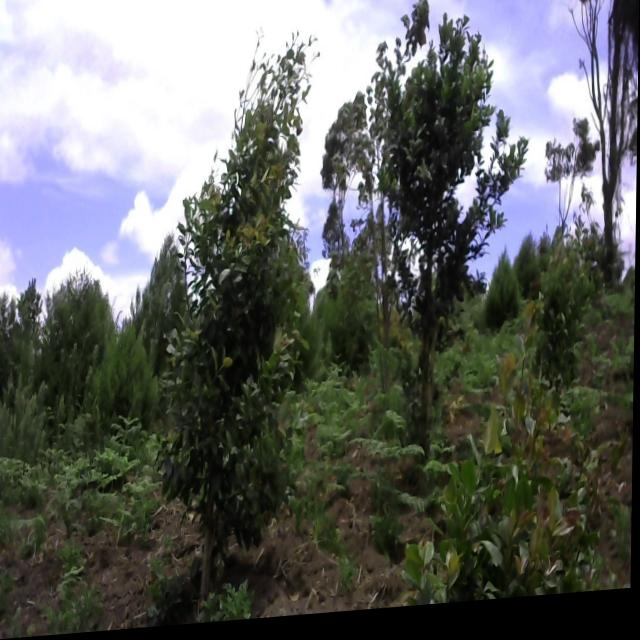Lemon Myrtle: (154, 31, 316, 607), (411, 301, 592, 612), (528, 253, 598, 409)
cedrus: (91, 321, 158, 437), (138, 223, 188, 352)
other: (376, 22, 531, 439), (562, 0, 639, 299), (318, 89, 380, 264)
